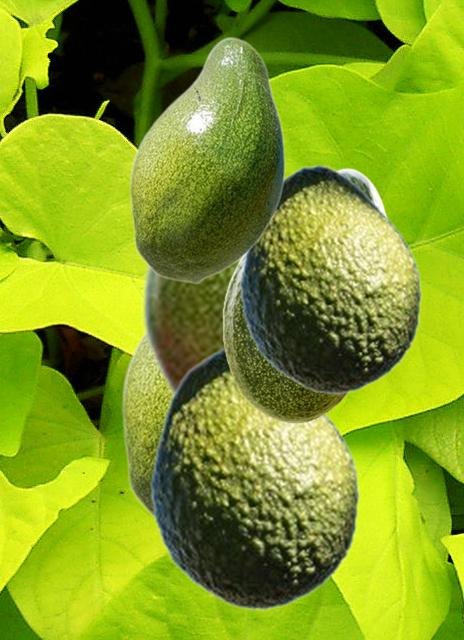avocado: (148, 345, 359, 610), (222, 168, 389, 422), (238, 164, 421, 394), (129, 36, 285, 283), (141, 260, 237, 400), (121, 334, 170, 518)
